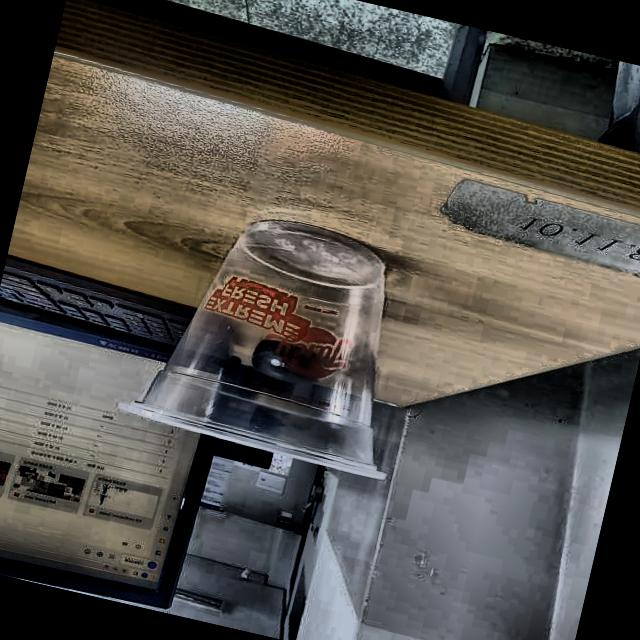plastic cup: (118, 194, 434, 481)
